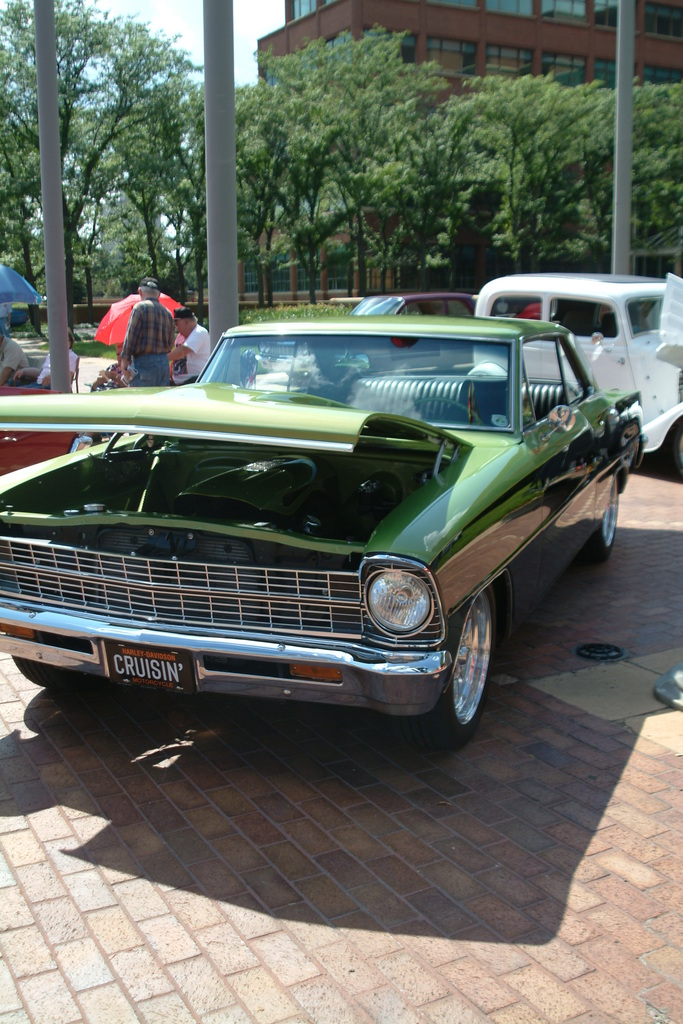Car: (0, 275, 682, 748)
